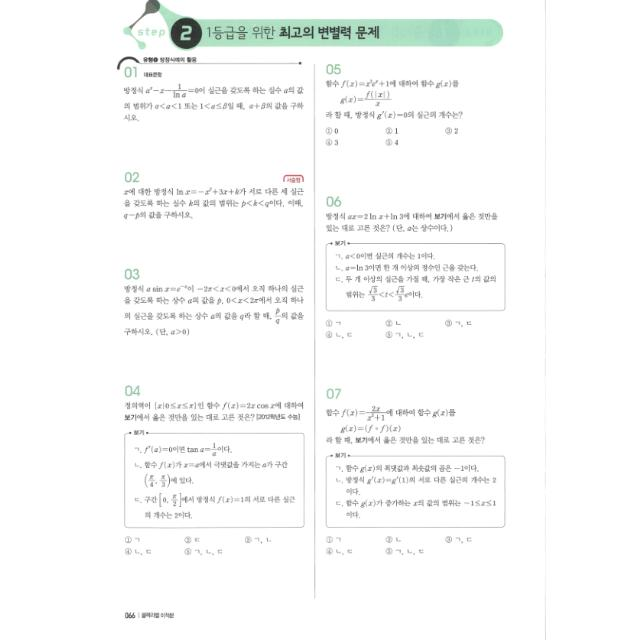multiple: (318, 378, 520, 566), (115, 375, 308, 567), (319, 186, 519, 348), (318, 54, 502, 154)
short: (116, 260, 308, 344), (110, 53, 310, 131), (116, 164, 308, 226)
